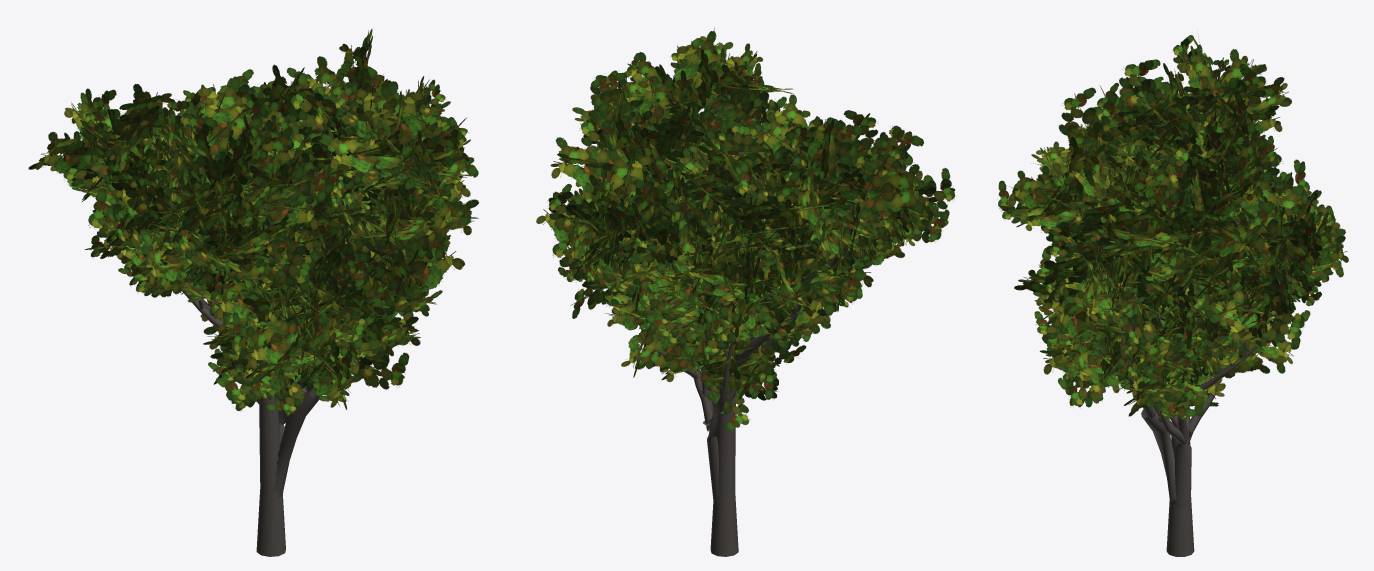
Rendered from trees.glb.
3 renders of one model, left to right at view 1: azimuth 30°, elevation 25°; view 2: azimuth 150°, elevation 25°; view 3: azimuth 270°, elevation 25°, orthographic. The views are drawn at different scales.
Visible parts, largest first — view 1: tree_0_leaves0, tree_0_leaves1, tree_2_leaves1, tree_2_leaves0, tree_1_leaves0, tree_1_leaves1, tree_2_wood, tree_0_wood; view 2: tree_2_leaves0, tree_2_leaves1, tree_0_leaves0, tree_0_leaves1, tree_1_leaves1, tree_1_leaves0, tree_2_wood, tree_1_wood; view 3: tree_2_leaves1, tree_2_leaves0, tree_0_leaves1, tree_0_leaves0, tree_1_leaves0, tree_1_leaves1, tree_1_wood, tree_0_wood, tree_2_wood.
Part boxes in pixels (<box>): tree_0_leaves0: <box>84,83,478,328</box>; tree_0_leaves1: <box>97,76,478,330</box>; tree_2_leaves1: <box>28,42,416,264</box>; tree_2_leaves0: <box>63,29,399,253</box>; tree_1_leaves0: <box>116,227,443,416</box>; tree_1_leaves1: <box>201,230,465,409</box>; tree_2_wood: <box>110,199,285,556</box>; tree_0_wood: <box>188,170,412,498</box>; tree_2_leaves0: <box>547,70,907,317</box>; tree_2_leaves1: <box>536,77,925,310</box>; tree_0_leaves0: <box>552,38,955,365</box>; tree_0_leaves1: <box>572,27,933,377</box>; tree_1_leaves1: <box>627,203,873,393</box>; tree_1_leaves0: <box>607,198,862,431</box>; tree_2_wood: <box>613,125,859,556</box>; tree_1_wood: <box>693,331,751,502</box>; tree_2_leaves1: <box>1080,36,1348,304</box>; tree_2_leaves0: <box>1095,35,1343,306</box>; tree_0_leaves1: <box>1008,121,1314,373</box>; tree_0_leaves0: <box>998,76,1318,376</box>; tree_1_leaves0: <box>1034,159,1309,420</box>; tree_1_leaves1: <box>1014,172,1321,416</box>; tree_1_wood: <box>1117,356,1218,508</box>; tree_0_wood: <box>1073,220,1256,501</box>; tree_2_wood: <box>1156,286,1290,556</box>.
Size of the model in its own units: 10.31 by 11.68 by 8.41.
3 materials, 2 textured.
